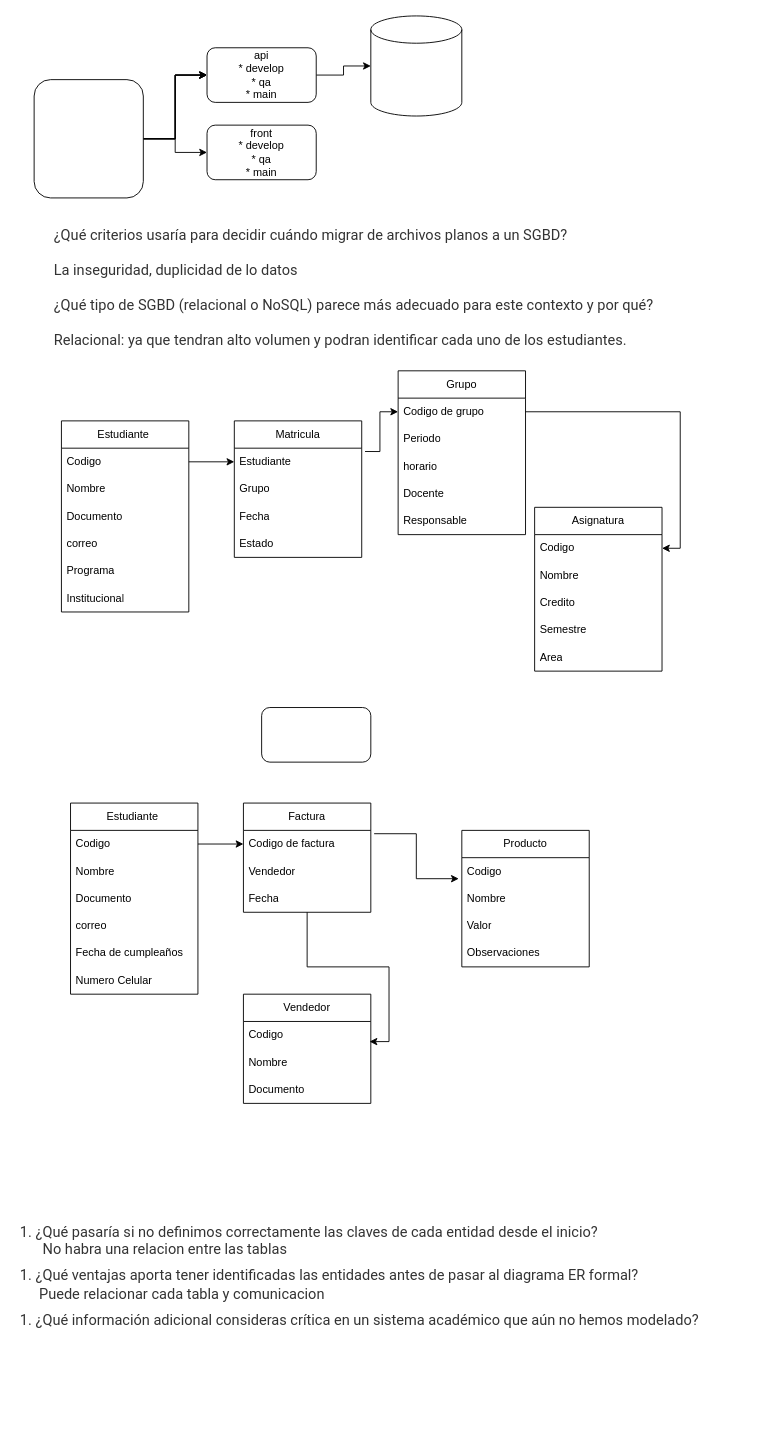
The diagram is 777 pixels wide and 1445 high, and some of its shapes have lost their labels. The centre of each missing label's shape, as x and y in pixels:
"-Código -nombre -documento -correo - programa -institucional" belongs at (x=88, y=138).
"BD * develop * qa * main" belongs at (x=416, y=65).
"Tienda de Ropa" belongs at (x=316, y=734).
